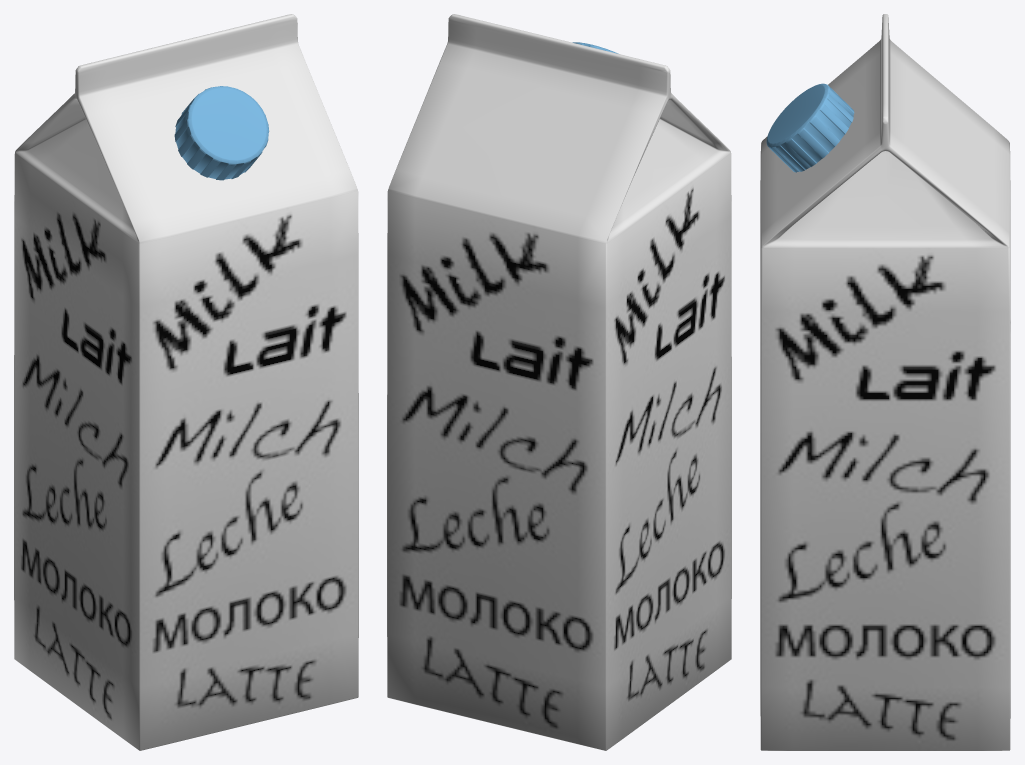
File: caja_leche.glb
The picture shows the model from 3 angles, left to right: view 1: azimuth 30°, elevation 25°; view 2: azimuth 150°, elevation 25°; view 3: azimuth 270°, elevation 25°; orthographic projection.
Visible parts, largest first — view 1: caja_leche; view 2: caja_leche; view 3: caja_leche.
Boxes of the visible parts, left/top/right/bottom form: caja_leche: left=14, top=14, right=358, bottom=750; caja_leche: left=387, top=14, right=731, bottom=750; caja_leche: left=760, top=14, right=1010, bottom=750.
Size of the model in its own units: 9.6 by 26.5 by 9.5.
Materials: 2 (1 with a texture image).
